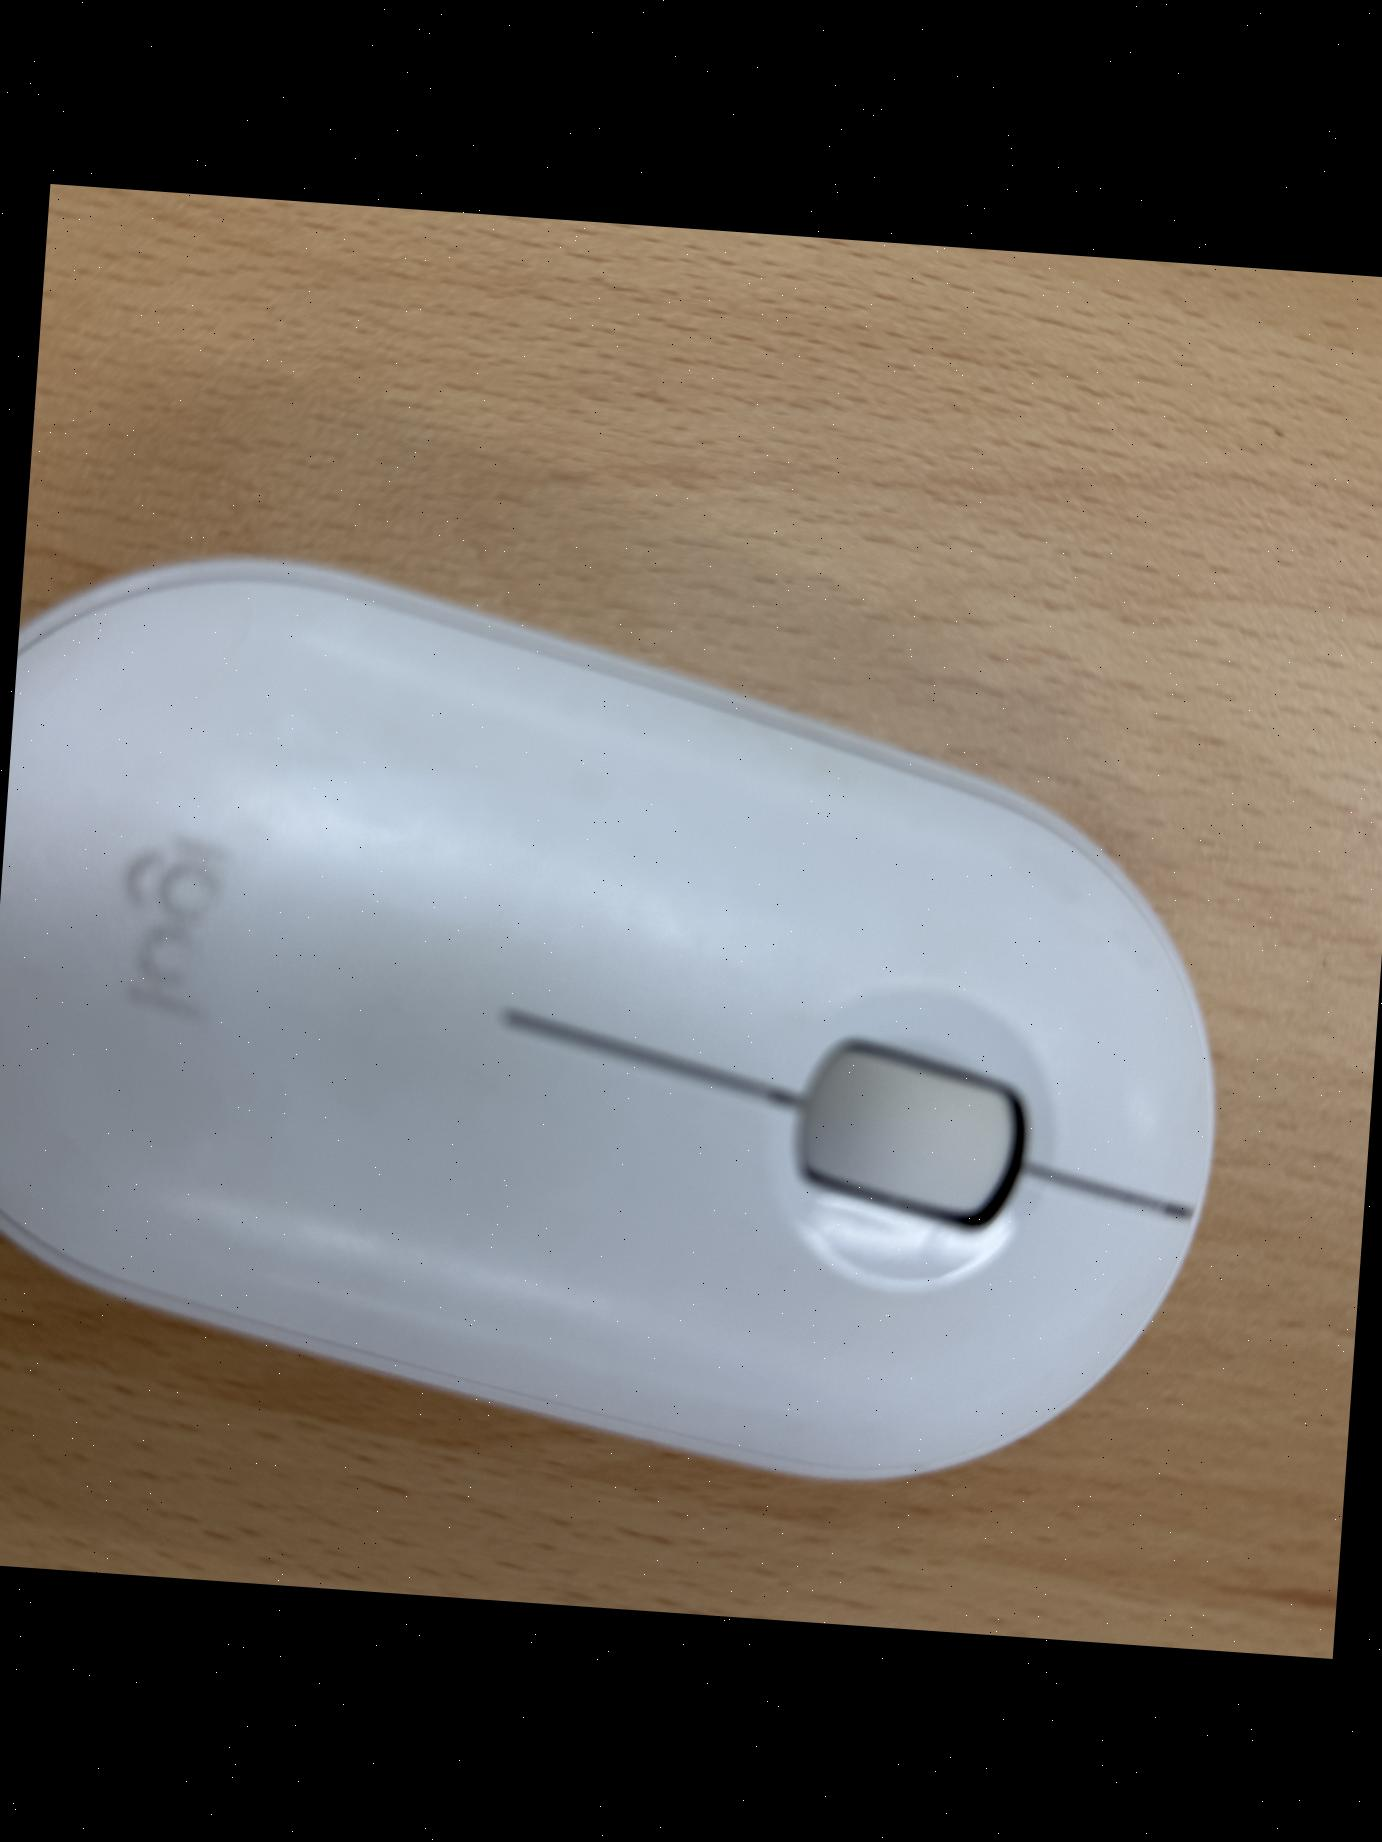front: (0, 531, 1247, 1510)
